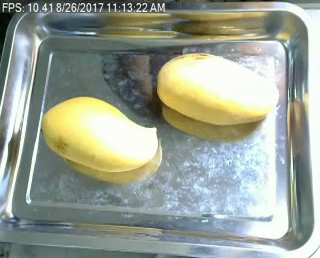Mango: (155, 49, 284, 127), (36, 94, 160, 174)
